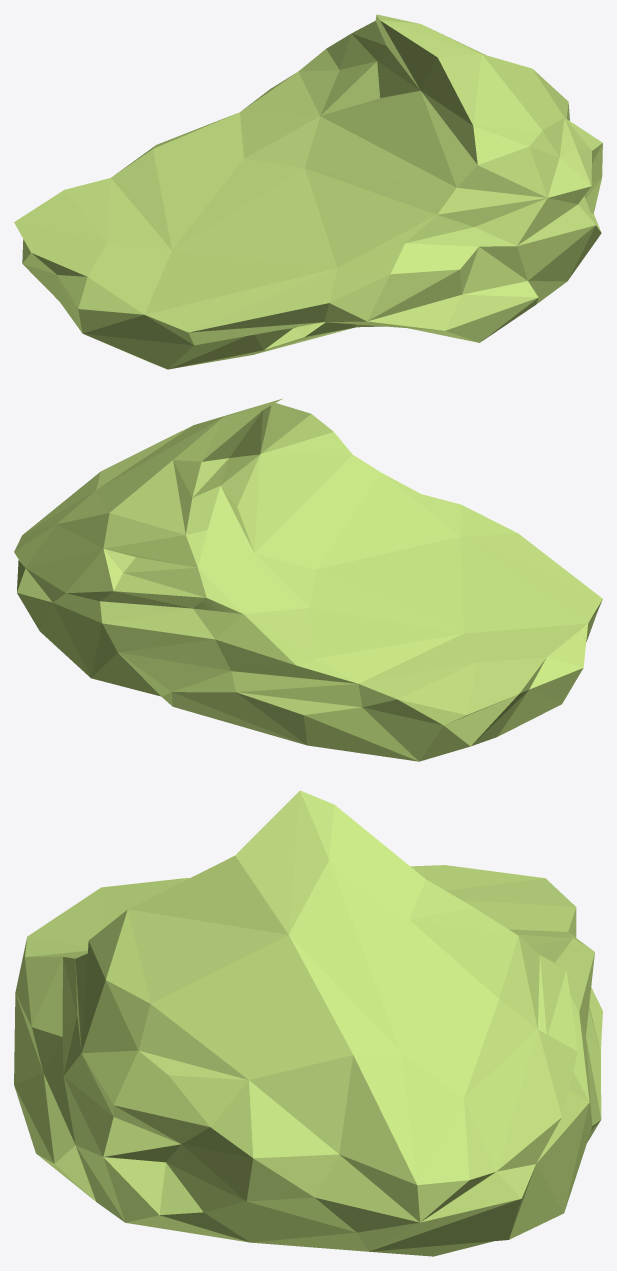
The model's file is meteor_green_flow_shard_05.glb.
3 views of the same model, one above another, from view 1: azimuth 30°, elevation 25°; view 2: azimuth 150°, elevation 25°; view 3: azimuth 270°, elevation 25° (orthographic). The views are drawn at different scales.
Parts seen in each view (by area): view 1: Mesh1.002; view 2: Mesh1.002; view 3: Mesh1.002.
Boxes of the visible parts, <box> form: Mesh1.002: <box>14,14,602,369</box>; Mesh1.002: <box>14,398,602,761</box>; Mesh1.002: <box>14,790,602,1256</box>.
Size of the model in its own units: 4 by 1.91 by 2.69.
